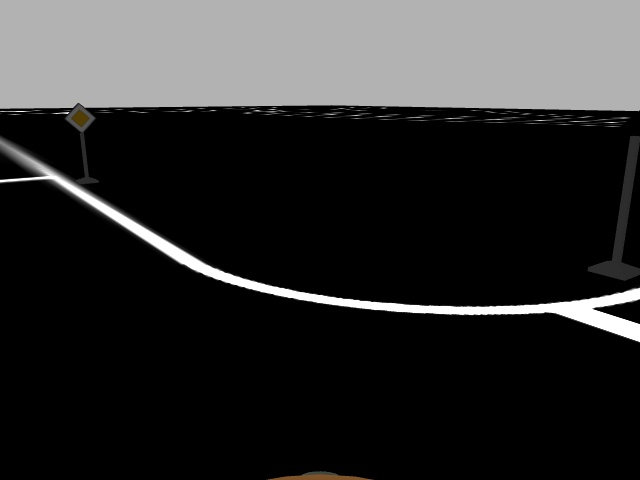priority: (65, 102, 96, 133)
